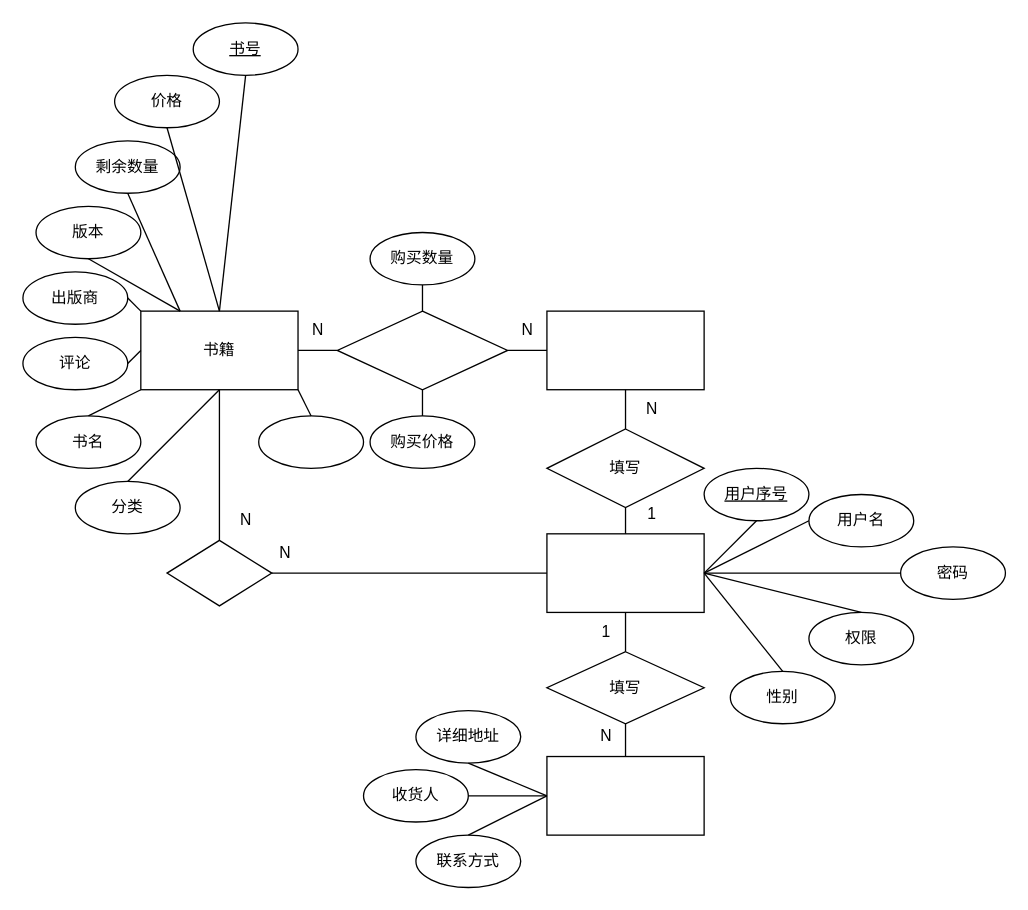
This 1028x910 diagram has some shape labels left out. Here are the shapes that lost their labels. From the top down, the centre of each, then its label:
At (x=422, y=350): "购买".
At (x=625, y=350): "订单".
At (x=310, y=441): "作者".
At (x=219, y=572): "收藏".
At (x=625, y=572): "用户".
At (x=625, y=795): "地址".
